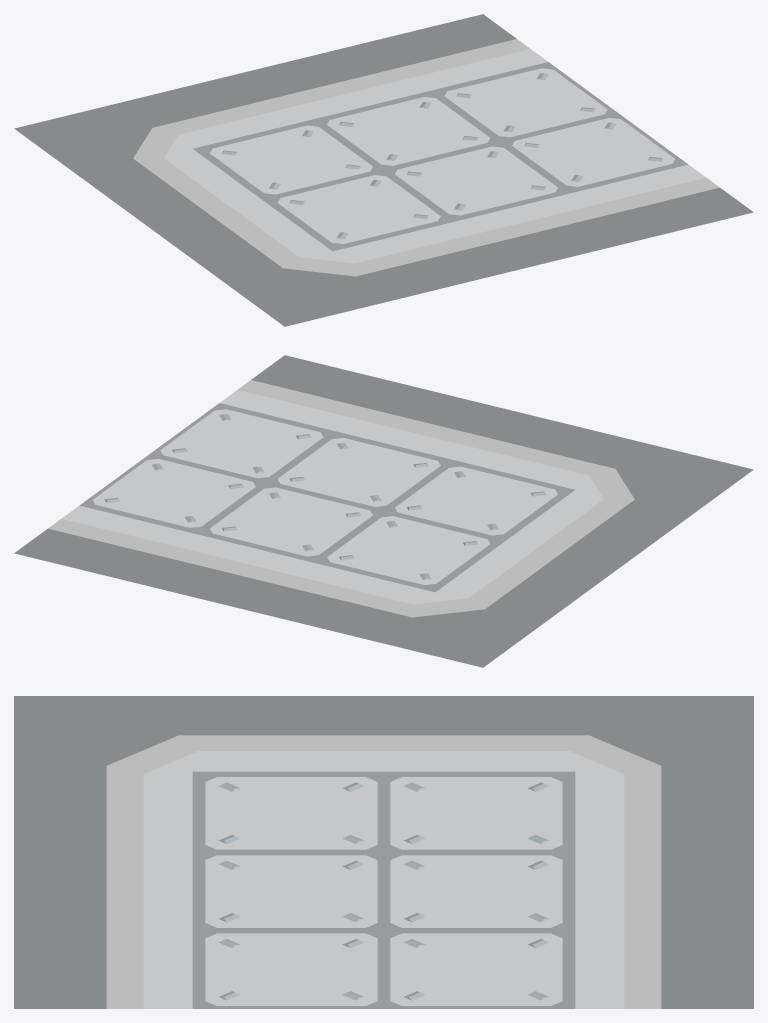
File: Floor_type_A_002.fbx
The picture shows the model from 3 angles, top to bottom: view 1: azimuth 30°, elevation 25°; view 2: azimuth 150°, elevation 25°; view 3: azimuth 270°, elevation 25°; orthographic projection. The views are drawn at different scales.
Parts seen in each view (by area): view 1: Floor_type_A_002; view 2: Floor_type_A_002; view 3: Floor_type_A_002.
Boxes of the visible parts, x1=… form: Floor_type_A_002: x1=14, y1=14, x2=753, y2=326; Floor_type_A_002: x1=14, y1=355, x2=753, y2=667; Floor_type_A_002: x1=14, y1=696, x2=753, y2=1008.
Size of the model in its own units: 400 by 400 by 0.8.
